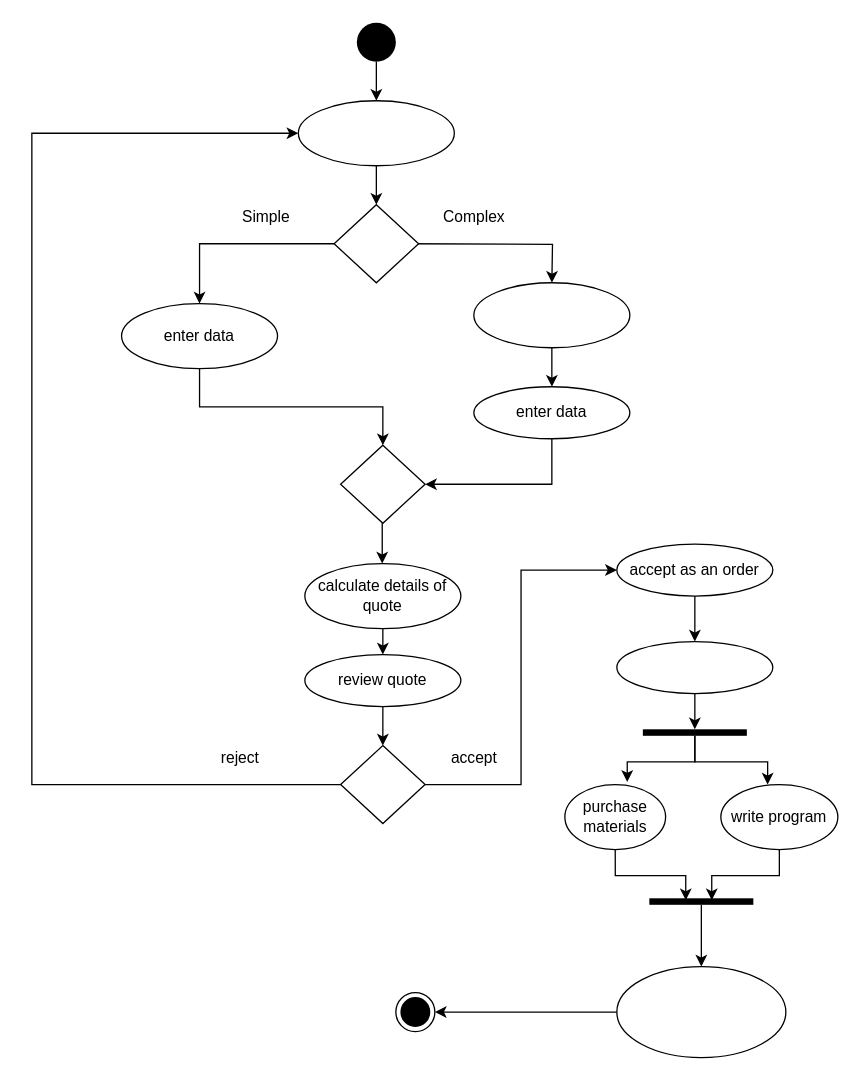
Image size: 861x1080. Some labels were removed from this diagram. Here are the shapes that lost their labels. From the top down, the box of each, then its label:
(297, 99, 454, 166): develop notes of requirements
(473, 281, 630, 348): check requirement
(616, 640, 773, 694): develop specs.
(616, 965, 786, 1058): put order on production schedule
